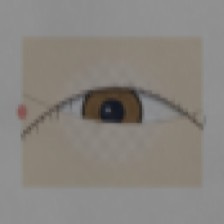pinguecula_lesion: (26, 91, 71, 127)
